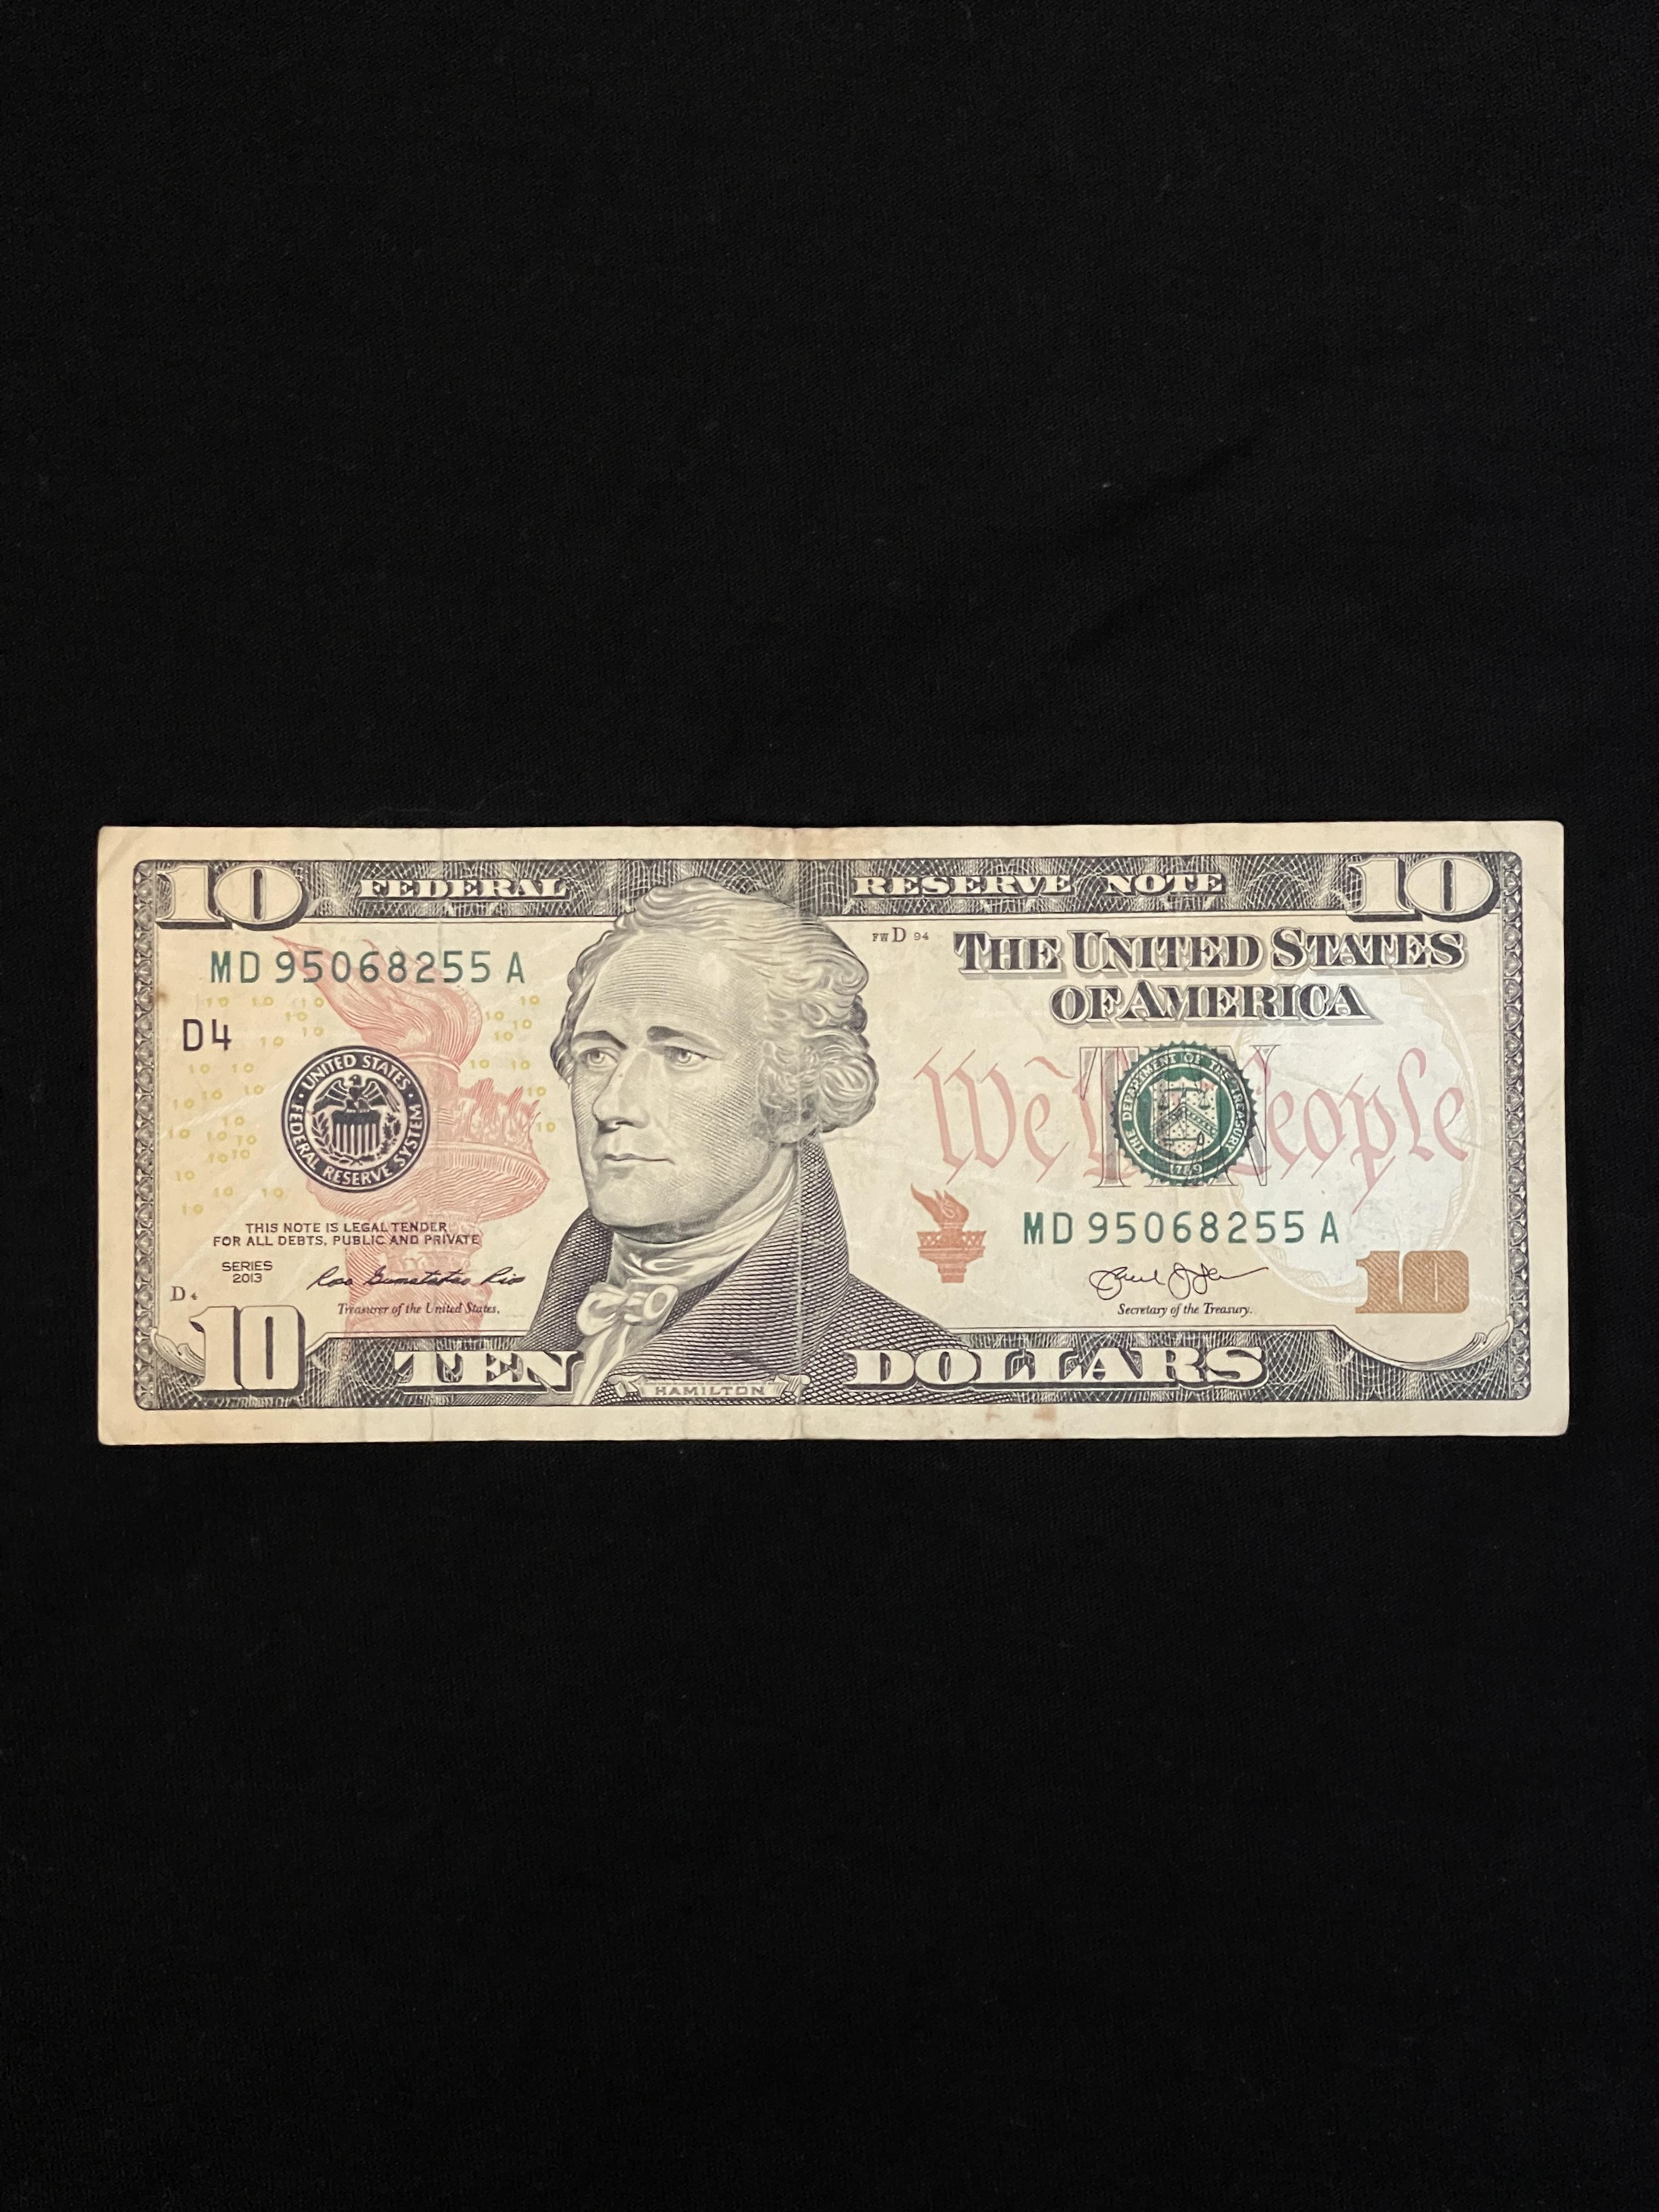TenBill: (82, 815, 1582, 1451)
